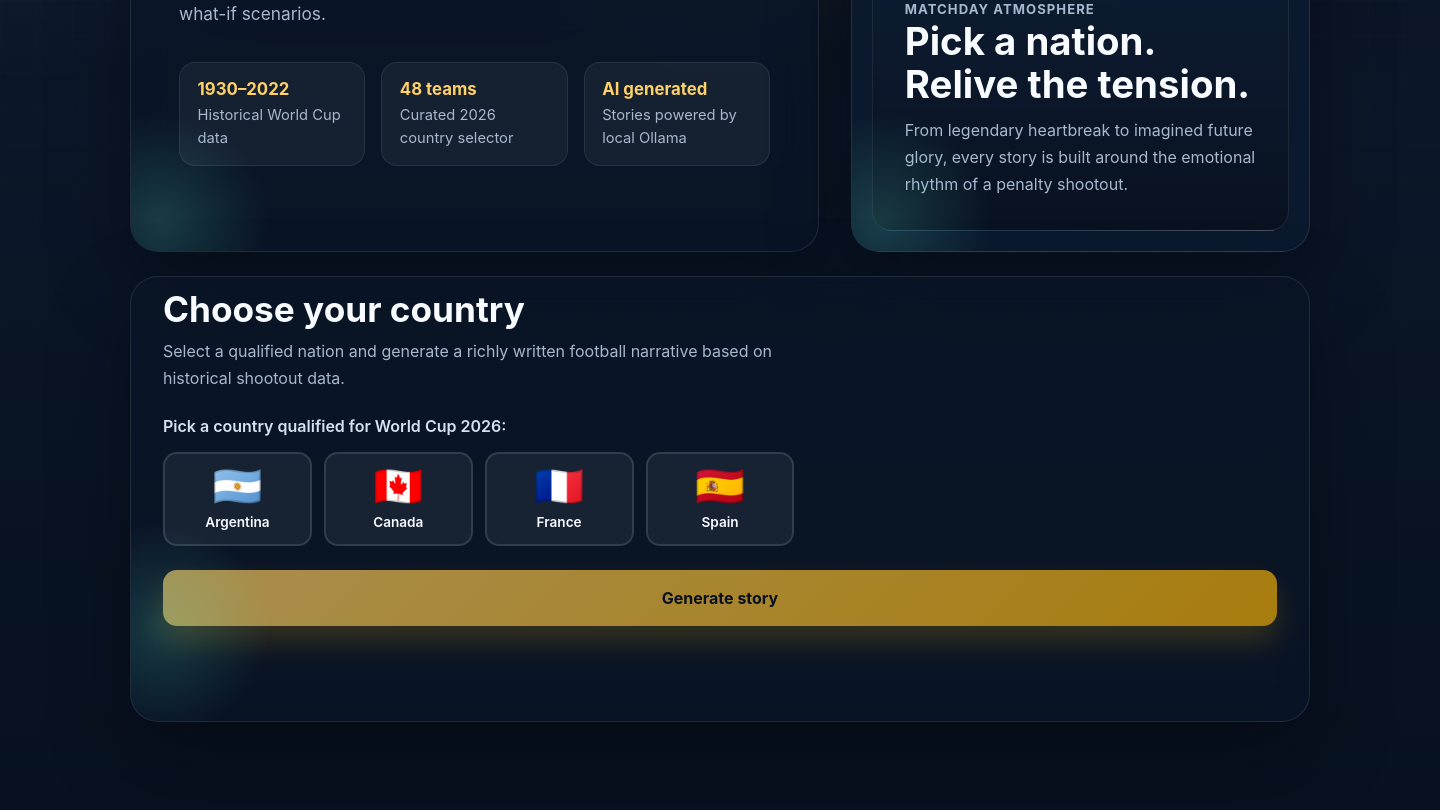
App — country selection › disables the button again if the user clicks the same country twice
(page scrolled)
# First click selects Argentina
Click the button "🇦🇷 Argentina". click: click(237, 499)
box: [163,452,312,546]
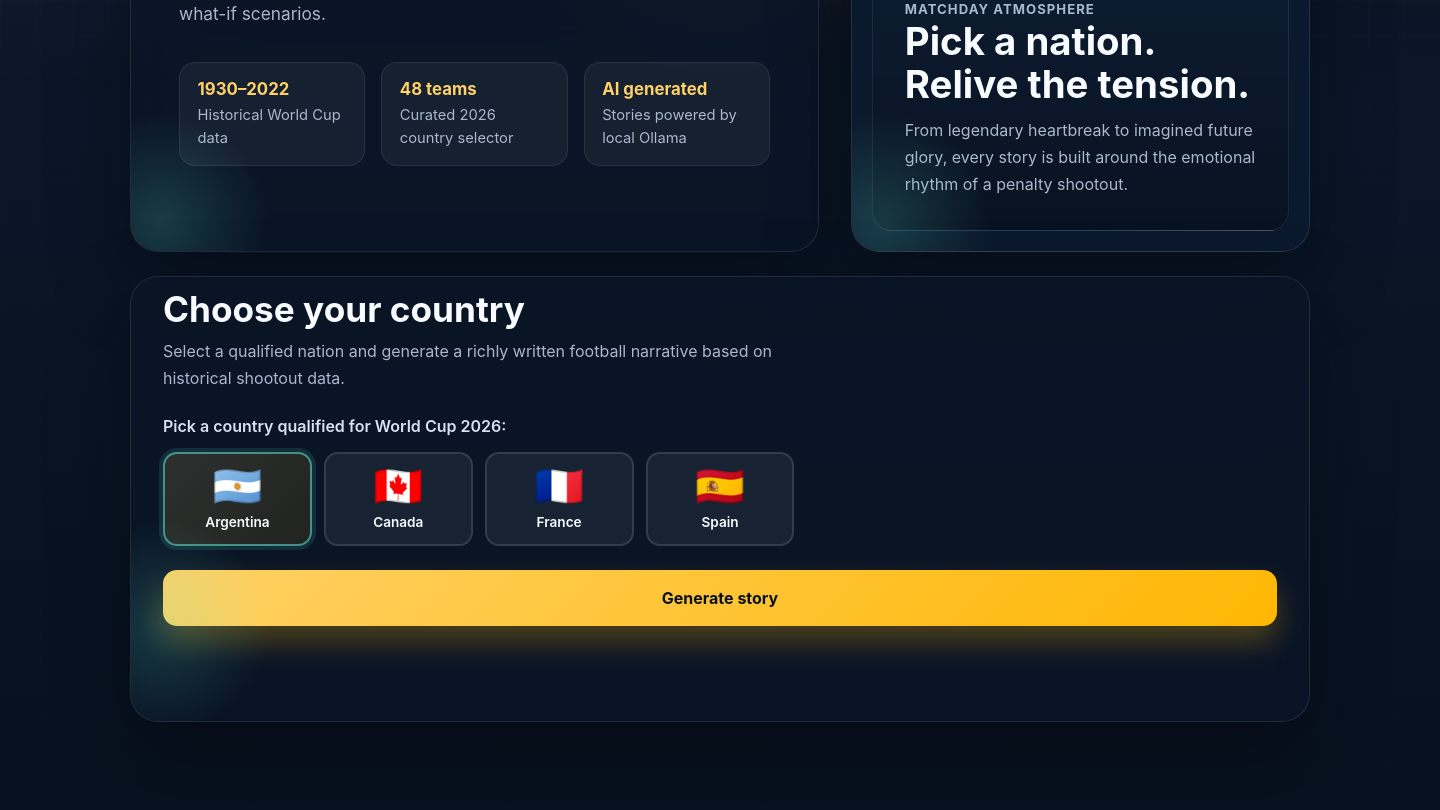
Expected: the button "Generate story" is enabled, [163,570,1277,626]
# Second click on same country deselects it
Click the button "🇦🇷 Argentina". click: click(237, 499)
box: [163,452,312,546]
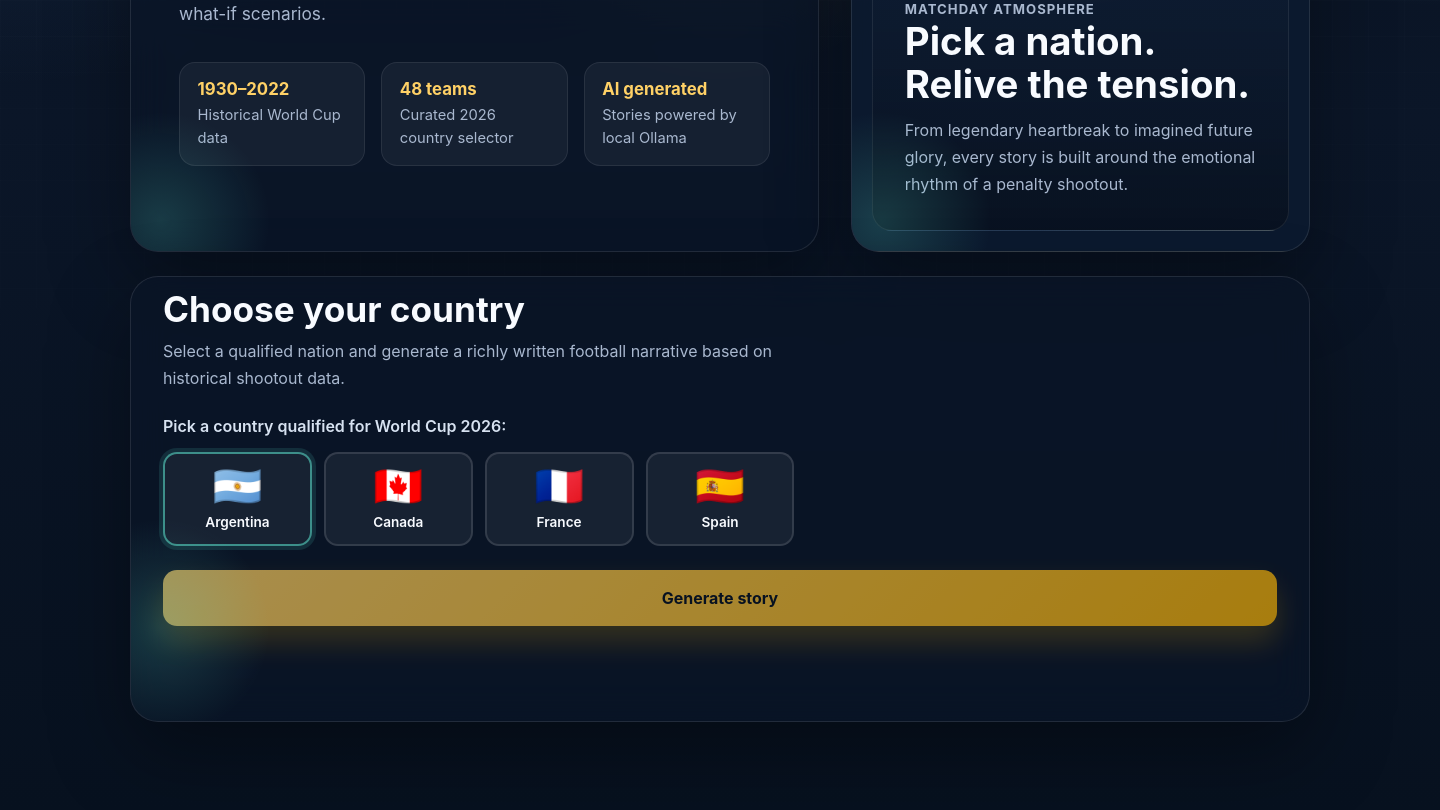
Expected: the button "Generate story" is disabled, [163,570,1277,626]
